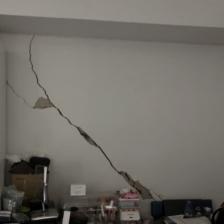High: (2, 33, 163, 206)
